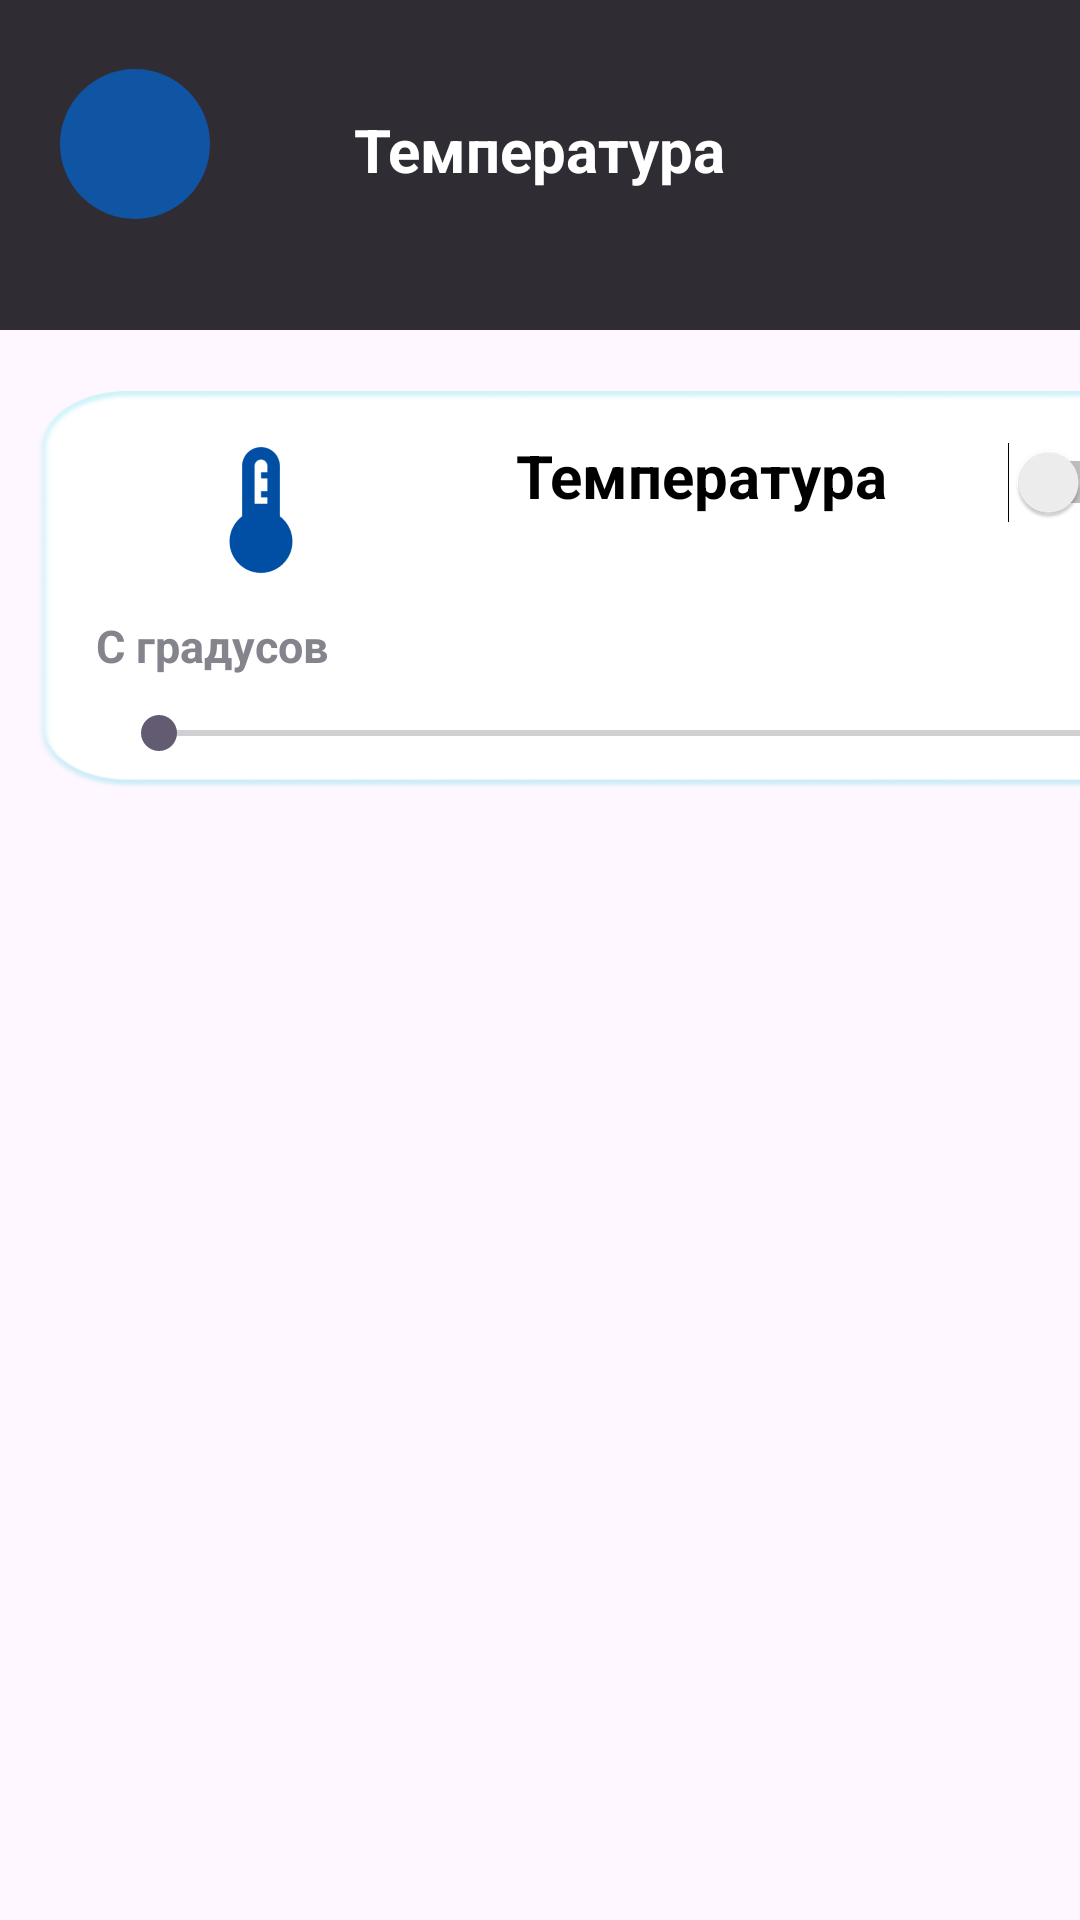

Locate icon controls on the screen. Image size 1080 x 1920, boxes as (x1, y1, x2, y2).
thermo: (229, 447, 293, 573)
